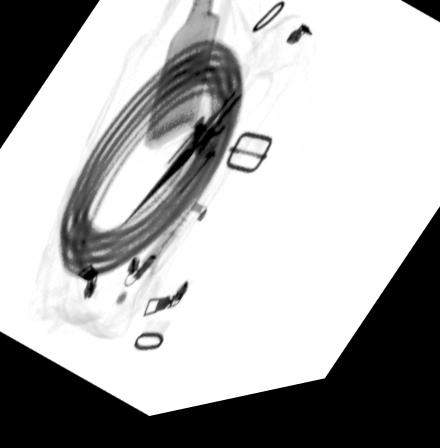Scissors: (121, 71, 273, 232)
